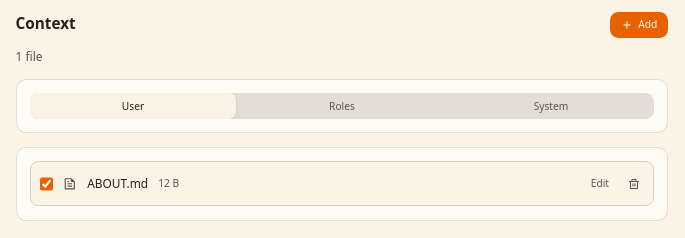
Scenario: ContextPanel — вкладки на Kit Tabs (ADR-072) › клик по вкладке Roles переключает activeTab и грузит свою категорию
Click the tab "Roles".
click(342, 106)  # box left=239, top=93, right=445, bottom=119
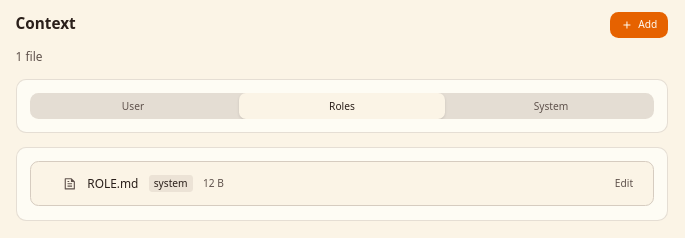
Expected: the text "ROLE.md" is shown, left=87, top=175, right=138, bottom=192
